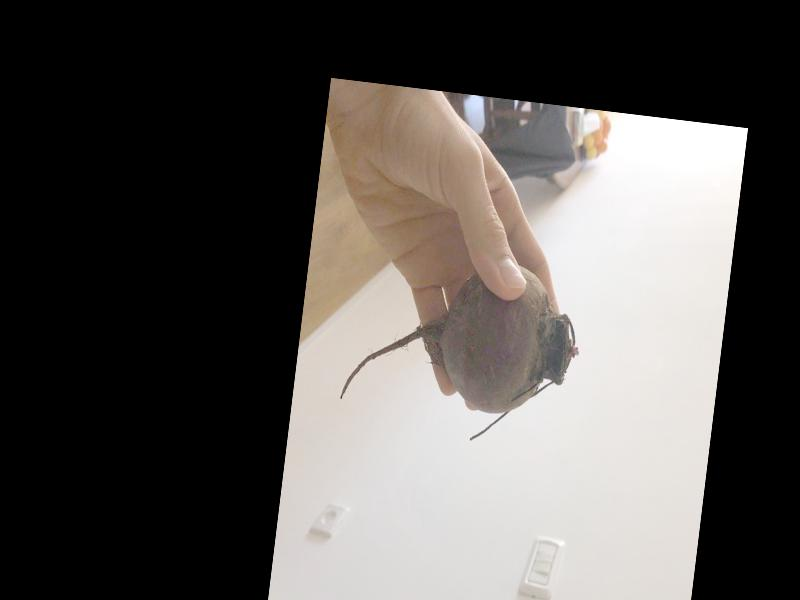Beet: (336, 245, 588, 453)
